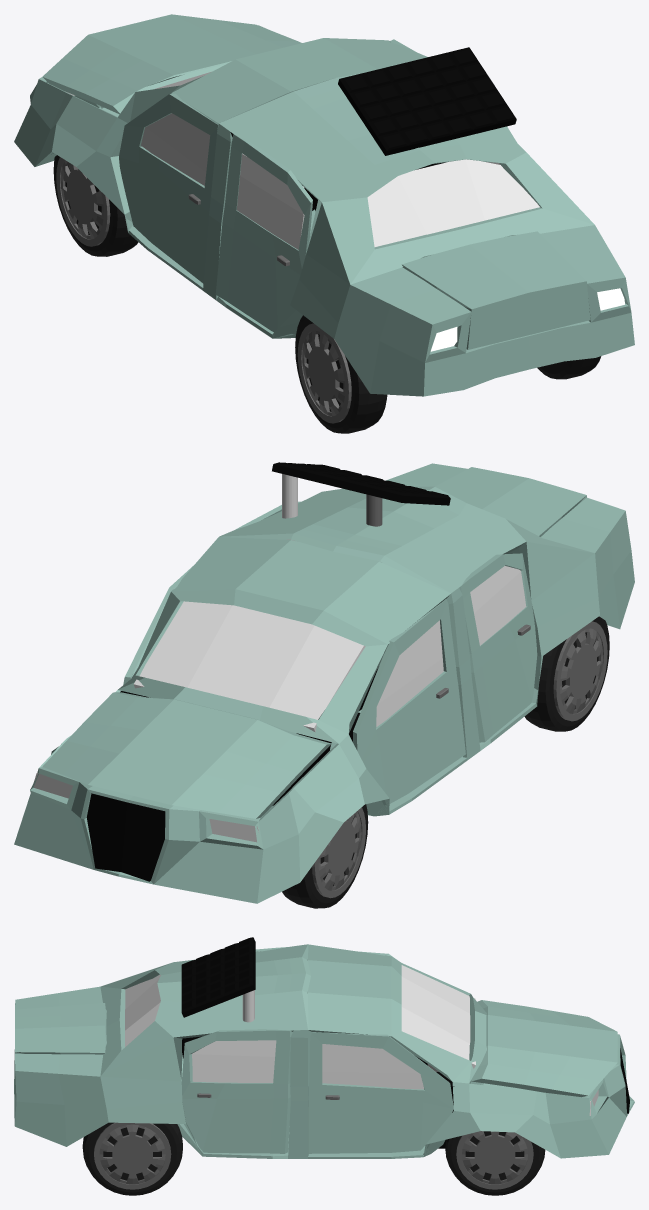
Rendered from car.fbx.
3 views of the same model, one above another, from view 1: azimuth 30°, elevation 25°; view 2: azimuth 150°, elevation 25°; view 3: azimuth 270°, elevation 25° (orthographic). The views are drawn at different scales.
Visible parts, largest first — view 1: Cube, Cube.004, Cube.003, Cube.006, 立方体, Cube.001, Cube.002, 立方体.034, 円柱.011, 立方体.033, 円柱.010, 立方体.019 (+3 smaller); view 2: Cube.004, Cube, Cube.006, 立方体.004, Cube.001, Cube.002, Cube.003, Cube.005, 円柱.011, 立方体.019, 立方体, 円柱.010 (+5 smaller); view 3: Cube, Cube.004, Cube.001, Cube.006, Cube.002, 立方体.004, Cube.003, 立方体, 円柱.016, 立方体.035, 円柱.014, 立方体.036 (+4 smaller).
Part boxes in pixels (x1,y1,x2,y2): Cube: [203, 73, 634, 396]; Cube.004: [14, 25, 427, 290]; Cube.003: [402, 231, 590, 349]; Cube.006: [42, 14, 301, 114]; 立方体: [338, 47, 516, 155]; Cube.001: [119, 39, 415, 283]; Cube.002: [215, 126, 516, 332]; 立方体.034: [367, 159, 539, 246]; 円柱.011: [297, 323, 351, 423]; 立方体.033: [237, 153, 304, 249]; 円柱.010: [56, 157, 110, 246]; 立方体.019: [141, 113, 210, 185]; Cube.004: [14, 537, 467, 903]; Cube: [219, 463, 634, 760]; Cube.006: [42, 692, 331, 818]; 立方体.004: [133, 601, 365, 731]; Cube.001: [123, 566, 465, 803]; Cube.002: [235, 501, 537, 742]; Cube.003: [435, 467, 586, 536]; Cube.005: [86, 793, 165, 881]; 円柱.011: [553, 621, 607, 721]; 立方体.019: [376, 620, 443, 726]; 立方体: [272, 462, 450, 505]; 円柱.010: [312, 807, 365, 898]; Cube: [14, 944, 311, 1158]; Cube.004: [307, 944, 634, 1158]; Cube.001: [308, 951, 453, 1153]; Cube.006: [471, 1000, 617, 1097]; Cube.002: [181, 947, 292, 1153]; 立方体.004: [401, 965, 475, 1068]; Cube.003: [15, 1003, 106, 1054]; 立方体: [181, 937, 255, 1017]; 円柱.016: [94, 1122, 171, 1189]; 立方体.035: [322, 1044, 423, 1089]; 円柱.014: [456, 1131, 533, 1189]; 立方体.036: [192, 1040, 276, 1082].
Size of the model in its own units: 1614 by 1428 by 3939.
